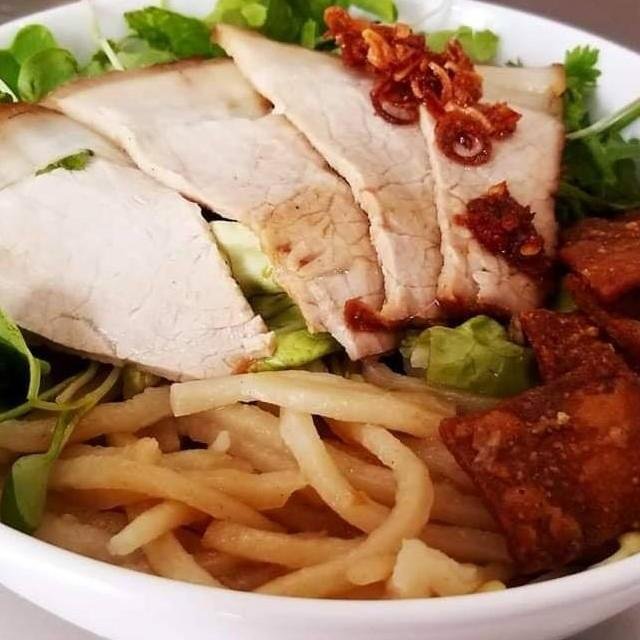banh da: (435, 345, 640, 587), (513, 300, 640, 436), (550, 178, 640, 338), (553, 261, 640, 392)
mi: (0, 352, 524, 602)
mi quang: (0, 23, 640, 640)
thit heo: (18, 49, 418, 368), (202, 16, 468, 340), (0, 97, 281, 390), (398, 52, 572, 330)
